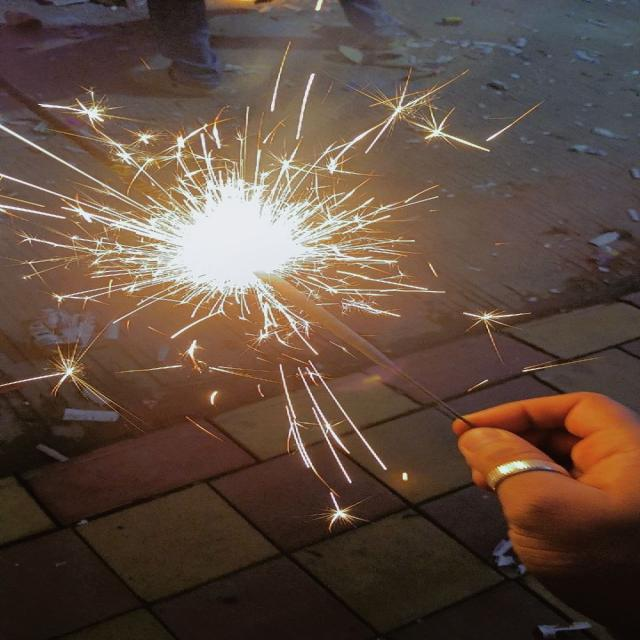fire: (172, 179, 320, 289)
